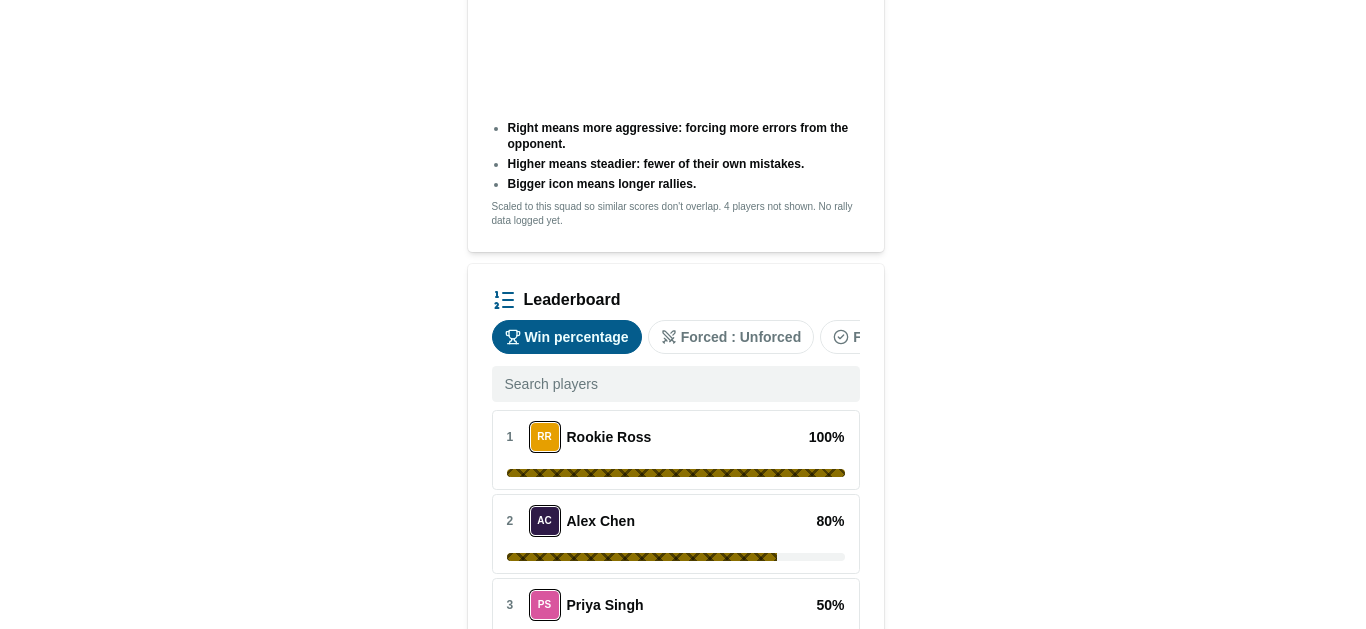
it: search filters the leaderboard
The width and height of the screenshot is (1366, 629).
(page scrolled)
Expected: the heading "Leaderboard" is shown, x1=524 y1=288 x2=620 y2=312
Type "Sam" into the field with placeholder "Search players". click: (676, 384)
box: x1=492 y1=366 x2=860 y2=402
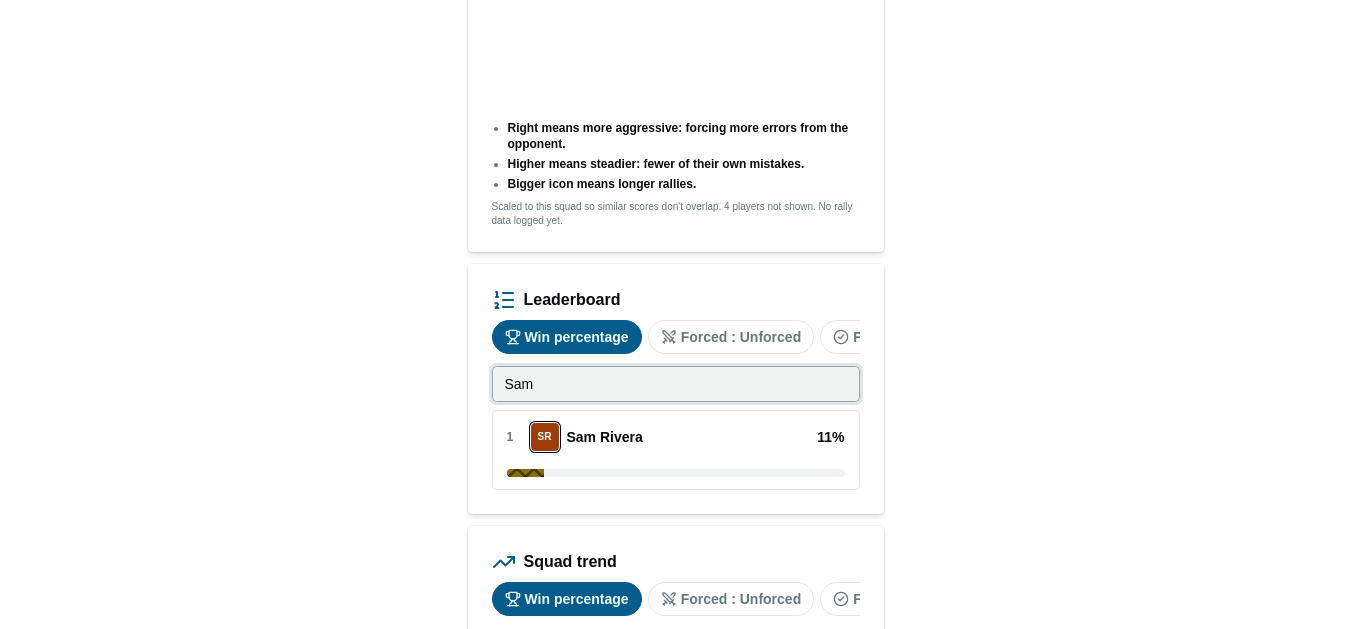
Expected: the text "Sam Rivera" is shown, x1=566 y1=429 x2=643 y2=445
Now the text "Alex Chen" is gone
